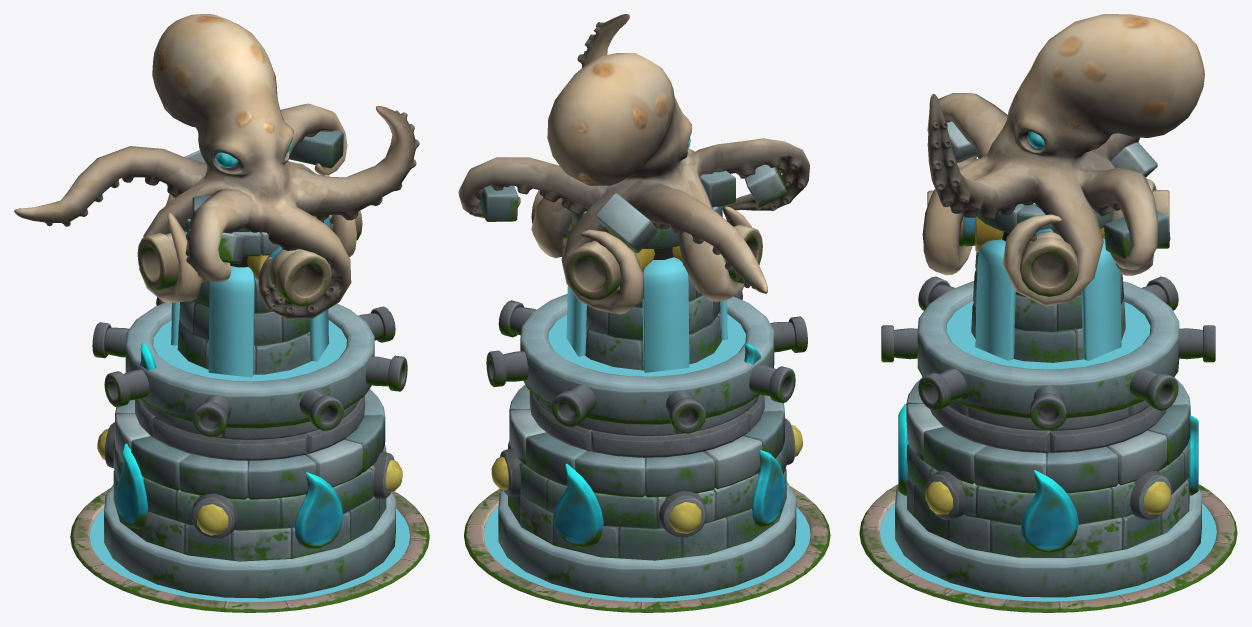
Rendered from SM_TowerDefense_Aqua_Lv5.fbx.
The picture shows the model from 3 angles, left to right: view 1: azimuth 30°, elevation 25°; view 2: azimuth 150°, elevation 25°; view 3: azimuth 270°, elevation 25°; orthographic projection. The views are drawn at different scales.
Parts seen in each view (by area): view 1: SM_TowerDefense_Aqua_Lv5; view 2: SM_TowerDefense_Aqua_Lv5; view 3: SM_TowerDefense_Aqua_Lv5.
Boxes of the visible parts, left/top/right/bottom form: SM_TowerDefense_Aqua_Lv5: left=14, top=14, right=429, bottom=612; SM_TowerDefense_Aqua_Lv5: left=458, top=14, right=830, bottom=612; SM_TowerDefense_Aqua_Lv5: left=859, top=14, right=1237, bottom=612.
Size of the model in its own units: 1182 by 1678 by 1108.
